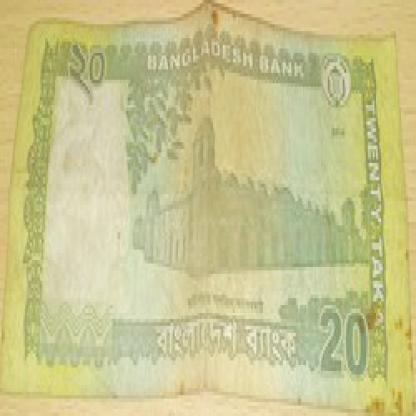Twenty: (314, 302, 380, 381), (58, 35, 128, 108)
